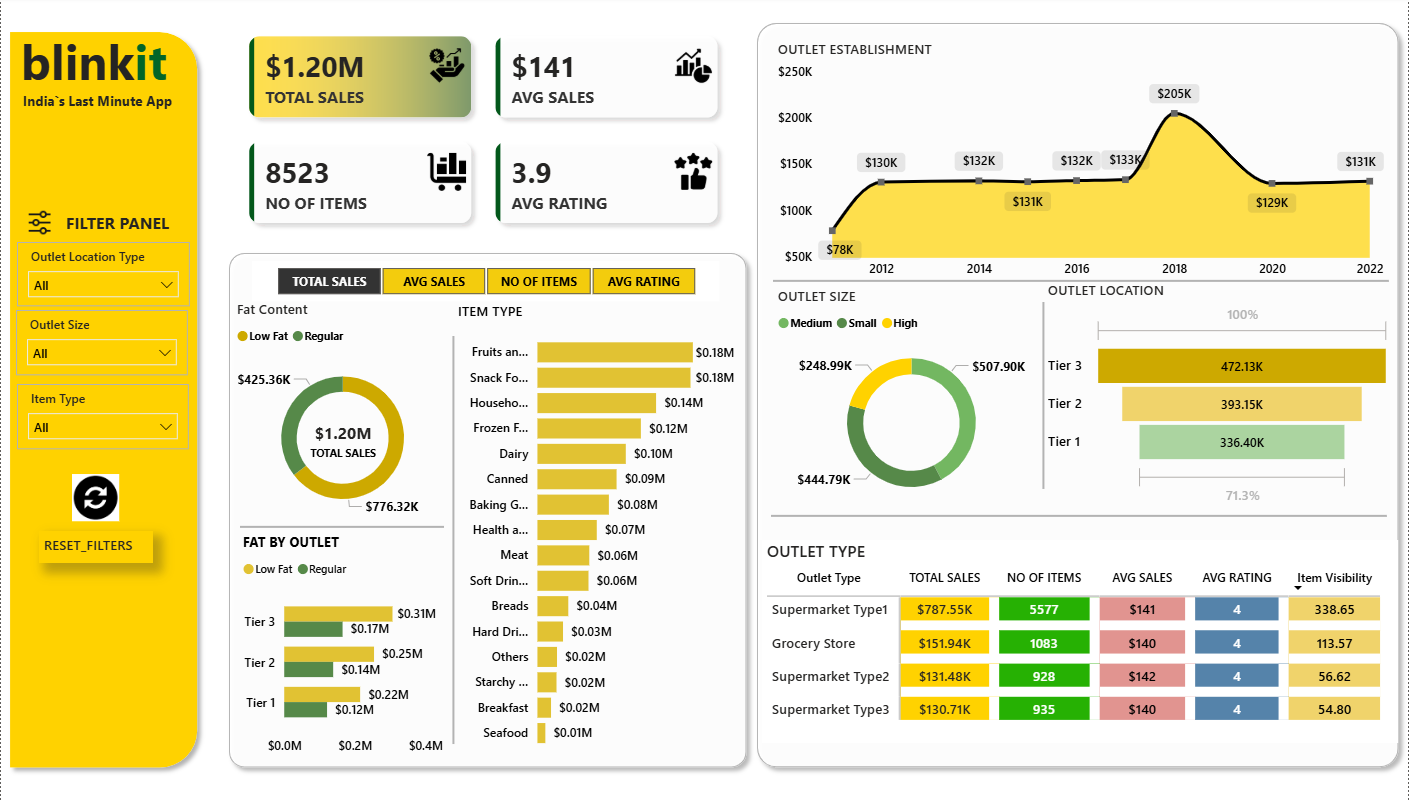

What the dashboard file says about the page in this screenshot:
{"tool":"powerbi","page":{"name":"BLINKIT SALES DASHBOARD","canvas":[1400,800],"ordinal":0},"visuals":[{"type":"textbox","box":[25.5,25,150,57],"z":0},{"type":"shape","box":[0,25.5,204.3,750],"z":1000},{"type":"textbox","box":[14.9,25.5,173.4,79.8],"z":2000},{"type":"textbox","box":[17,89.4,169.1,30.9],"z":3000},{"type":"cardVisual","fields":{"Data":["Table1.TOTAL SALES","Table1.AVERAGE SALES","Table1.NO OF ITEMS","Table1.AVERAGE RATING"]},"box":[217.9,10,525.4,245.8],"z":4000},{"type":"shape","box":[218.1,245.7,533,529.8],"z":5000},{"type":"donutChart","title":"Fat Content","fields":{"Y":["Table1.TOTAL SALES"],"Category":["Table1.Item Fat Content"]},"box":[229.8,301.1,220.2,229.8],"z":6000},{"type":"slicer","fields":{"Values":["Metrics.Metrics"]},"box":[250,262.8,464.9,40.4],"z":7000},{"type":"cardVisual","fields":{"Data":["Table1.TOTAL SALES"]},"box":[301,418,78,47],"z":8000},{"type":"clusteredBarChart","title":"FAT BY OUTLET","fields":{"Y":["Table1.TOTAL SALES"],"Category":["Table1.Outlet Location Type"],"Series":["Table1.Item Fat Content"]},"box":[236.2,533,220.2,229.8],"z":9000},{"type":"shape","box":[238.3,521.3,203.2,11.7],"z":10000},{"type":"shape","box":[443.6,337.2,12.8,406.4],"z":11000},{"type":"barChart","title":" ITEM TYPE","fields":{"Y":["Table1.TOTAL SALES"],"Category":["Table1.Item Type"]},"box":[450,303.2,285.1,454.3],"z":12000},{"type":"shape","box":[743.6,17,656.4,758.5],"z":13000},{"type":"lineChart","title":"OUTLET ESTABLISHMENT","fields":{"Y":["Table1.TOTAL SALES"],"Category":["Table1.Outlet Establishment Year"]},"box":[768.1,42.6,612.8,245.7],"z":14000},{"type":"shape","box":[768.1,276.6,612.8,11.7],"z":15000},{"type":"donutChart","title":"OUTLET SIZE","fields":{"Y":["Table1.TOTAL SALES"],"Category":["Table1.Outlet Size"]},"box":[768.1,288.3,275.5,225.5],"z":16000},{"type":"shape","box":[1030.9,303.2,12.8,186.2],"z":17000},{"type":"funnel","title":"OUTLET LOCATION","fields":{"Y":["Sum(Table1.Sales)"],"Category":["Table1.Outlet Location Type"]},"box":[1037.2,283,351.1,227.7],"z":18000},{"type":"shape","box":[766,510.6,612.8,11.7],"z":19000},{"type":"pivotTable","title":"OUTLET TYPE","fields":{"Rows":["Table1.Outlet Type"],"Values":["Table1.TOTAL SALES","Table1.NO OF ITEMS","Table1.AVG SALES","Table1.AVG RATING","Sum(Table1.Item Visibility)"]},"box":[757.4,540.4,633,202.1],"z":20000},{"type":"slicer","fields":{"Values":["Table1.Outlet Location Type"]},"box":[15.8,243.6,172.1,64.2],"z":21000},{"type":"slicer","fields":{"Values":["Table1.Outlet Size"]},"box":[14.9,311.7,171.3,64.9],"z":22000},{"type":"slicer","fields":{"Values":["Table1.Item Type"]},"box":[16,385.1,171.3,64.9],"z":23000},{"type":"textbox","title":"FILTER PANEL","box":[59.6,213.8,116,20.2],"z":24000},{"type":"image","box":[17,209.6,42.6,28.7],"z":25000},{"type":"image","box":[70.6,527.4,46.8,57.7],"z":26000},{"type":"textbox","box":[37.8,602,113.4,31.8],"z":27000}]}

Visuals, with their boxes in screenshot pixels (x1, y1, x2, y2), scaled from the page's 1400x800 canvas onto the 1409x800 screenshot:
textbox: 26:25:177:82
shape: 0:26:206:776
textbox: 15:26:190:105
textbox: 17:89:187:120
cardVisual - Table1.TOTAL SALES x Table1.AVERAGE SALES: 219:10:748:256
shape: 220:246:756:776
"Fat Content" donutChart: 231:301:453:531
slicer - Metrics.Metrics: 252:263:719:303
cardVisual - Table1.TOTAL SALES: 303:418:381:465
"FAT BY OUTLET" clusteredBarChart: 238:533:459:763
shape: 240:521:444:533
shape: 446:337:459:744
" ITEM TYPE" barChart: 453:303:740:758
shape: 748:17:1408:776
"OUTLET ESTABLISHMENT" lineChart: 773:43:1390:288
shape: 773:277:1390:288
"OUTLET SIZE" donutChart: 773:288:1050:514
shape: 1038:303:1050:489
"OUTLET LOCATION" funnel: 1044:283:1397:511
shape: 771:511:1388:522
"OUTLET TYPE" pivotTable: 762:540:1399:742
slicer - Table1.Outlet Location Type: 16:244:189:308
slicer - Table1.Outlet Size: 15:312:187:377
slicer - Table1.Item Type: 16:385:189:450
"FILTER PANEL" textbox: 60:214:177:234
image: 17:210:60:238
image: 71:527:118:585
textbox: 38:602:152:634
